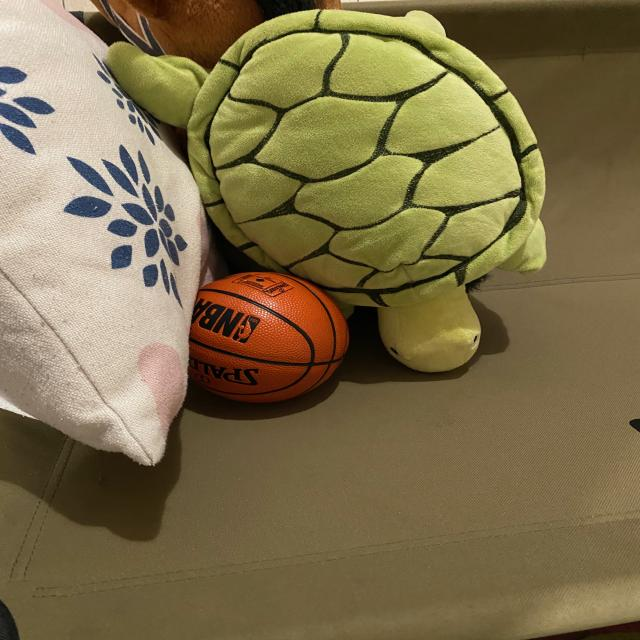Ball: (175, 264, 358, 411)
